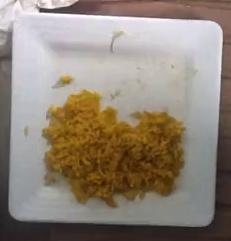rice: (42, 89, 182, 205)
